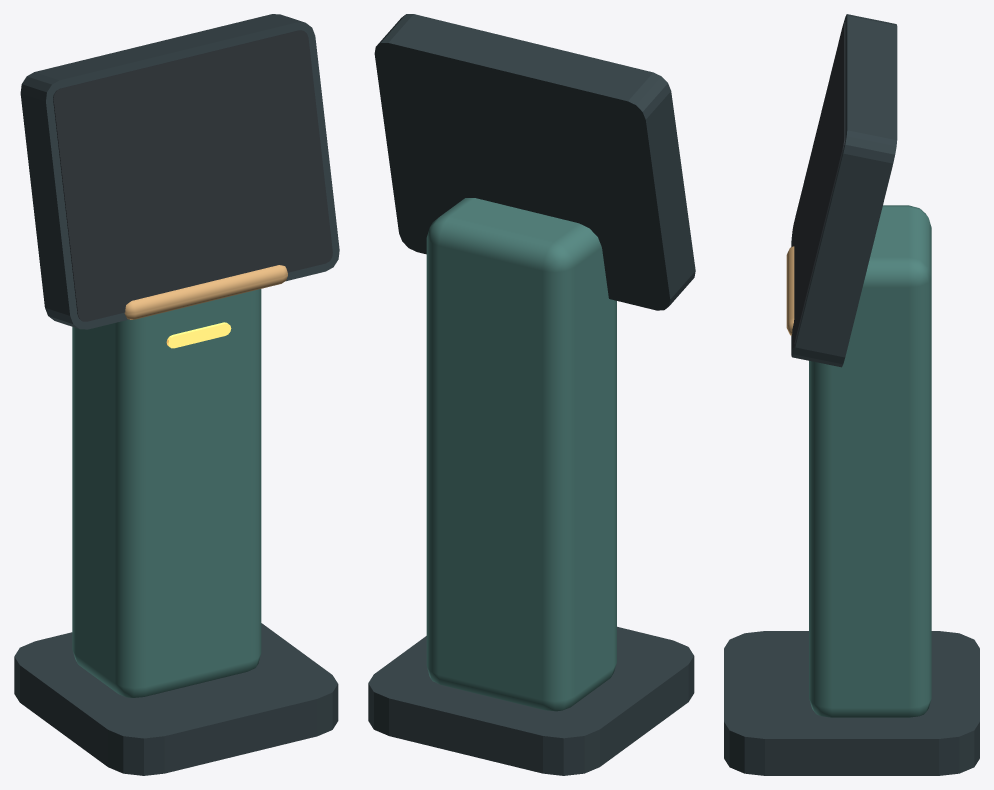
The model's file is kit_console_kiosk_v1.glb.
3 renders of one model, left to right at view 1: azimuth 30°, elevation 25°; view 2: azimuth 150°, elevation 25°; view 3: azimuth 270°, elevation 25°, orthographic. The views are drawn at different scales.
Visible parts, largest first — view 1: body, screen, status_led; view 2: body; view 3: body, screen.
Part boxes in pixels (x1,y1,x2,y2): body: (14, 14, 339, 775); screen: (53, 30, 332, 321); status_led: (166, 322, 231, 348); body: (368, 14, 695, 775); body: (724, 14, 979, 775); screen: (792, 22, 845, 349).
Size of the model in its own units: 0.6 by 1.4 by 0.5.
